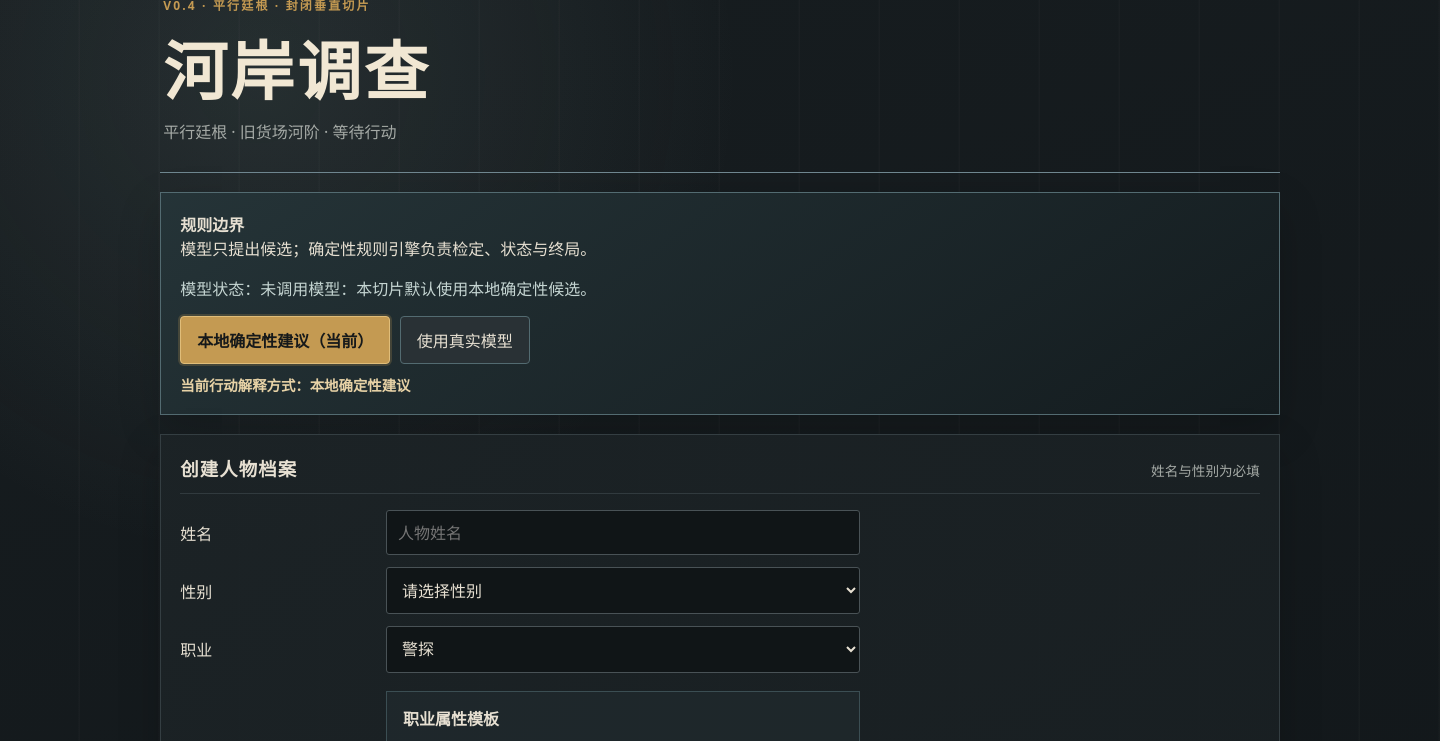
Scenario: V0.4 平行廷根可见切片 › 在具体调查步骤中选择占卜能力，预览效果并在结算后扣除灵性
Type "占卜链测试员" into the field labelled "姓名" at [623, 533], box [386,510,860,555]
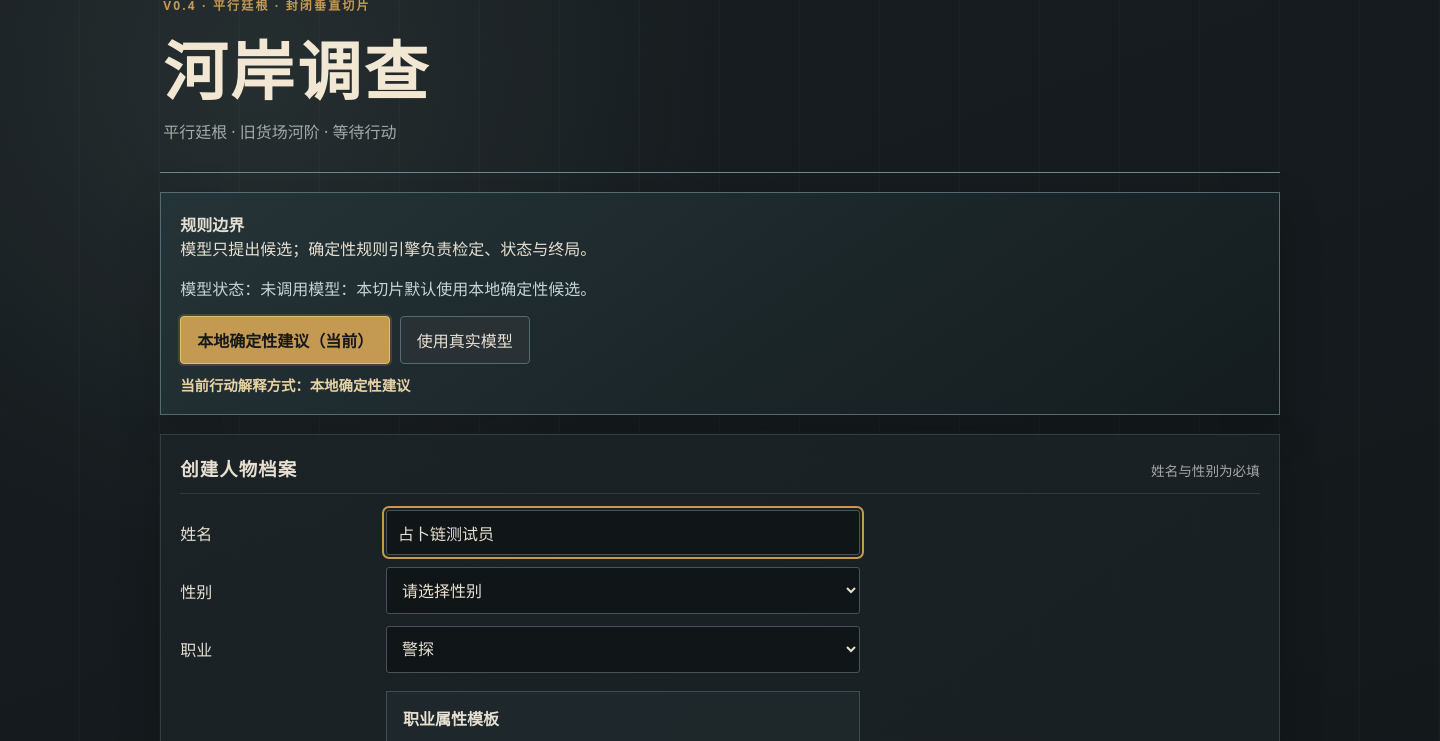
Select "女性" in the dropdown labelled "性别" at [623, 591], box [386,567,860,614]
(page scrolled)
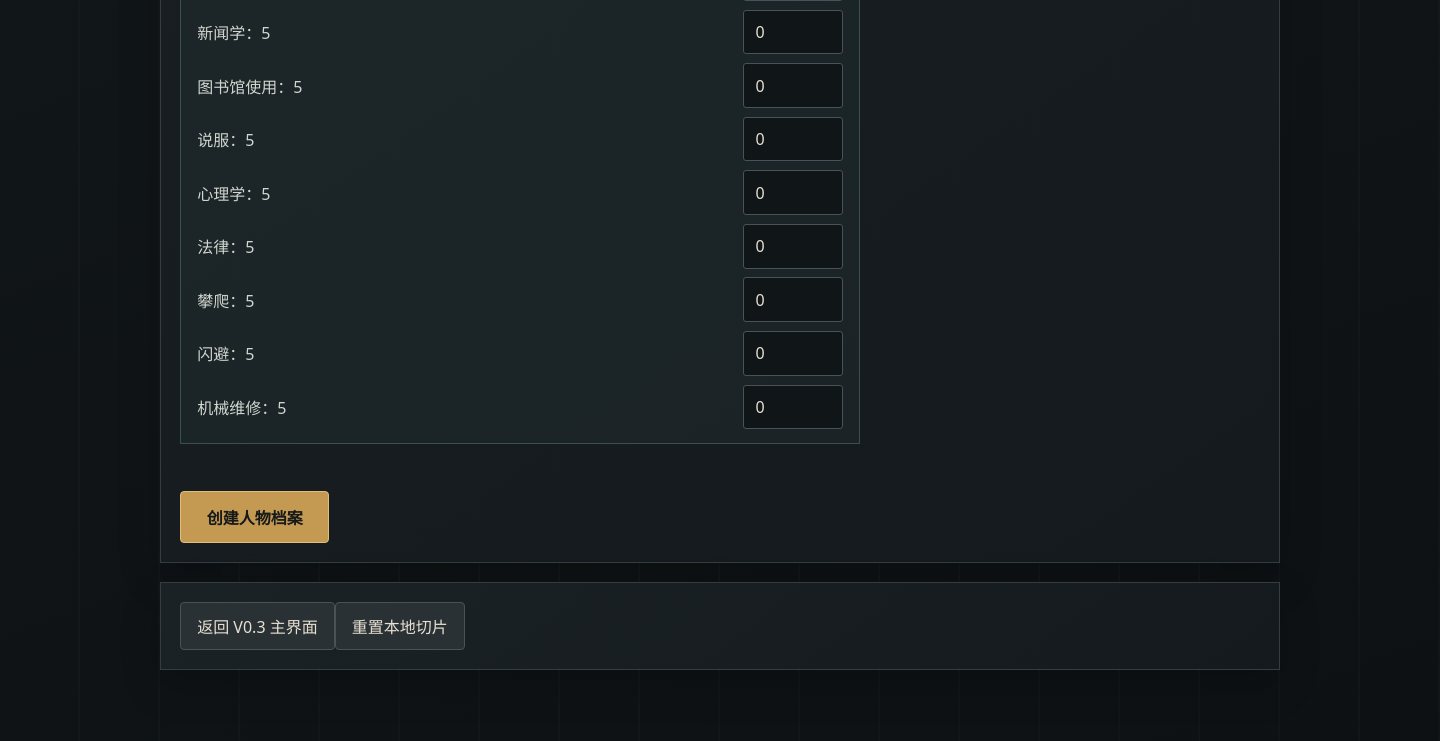
Click the button "创建人物档案" at [255, 517], box [180,491,329,543]
(page scrolled)
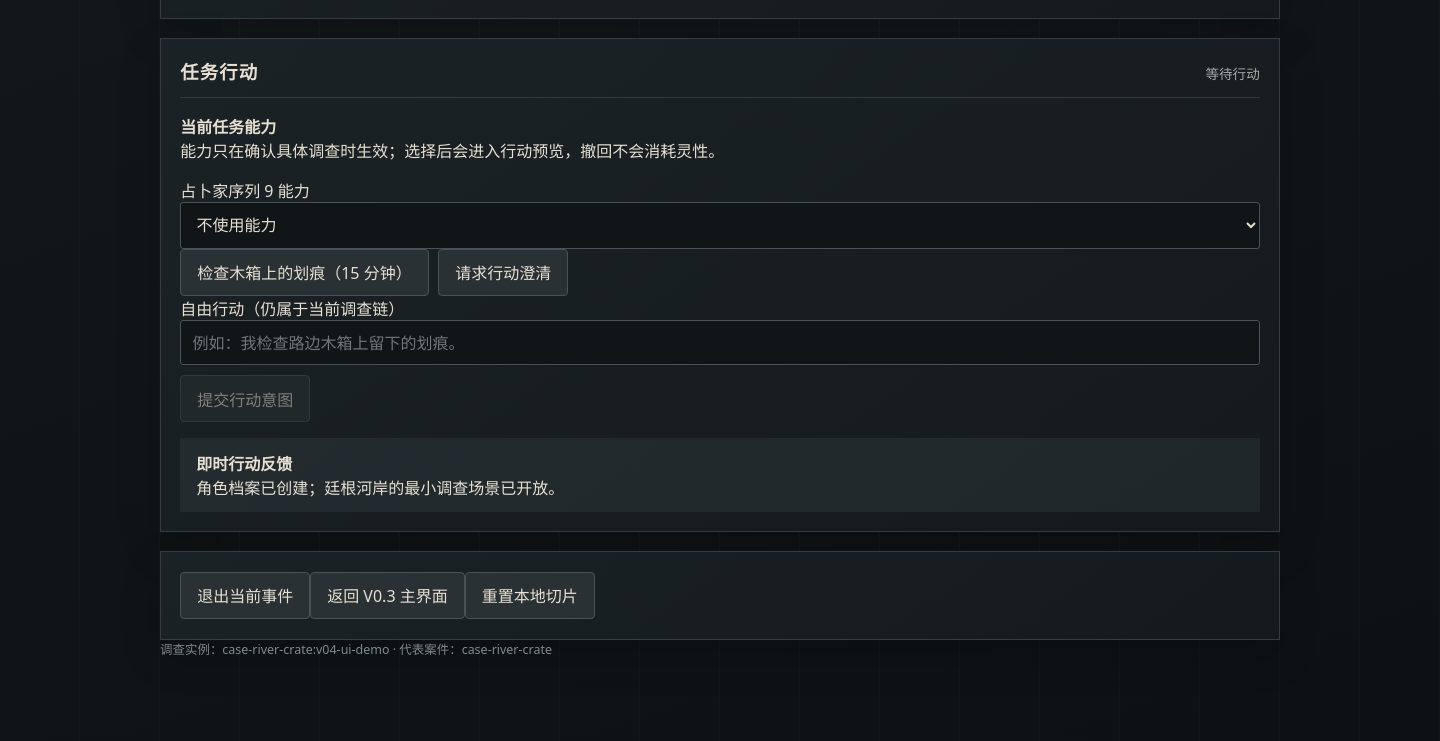
Select "预兆窥视（消耗 1 点灵性，影响检定与信息层级）" in the dropdown labelled "占卜家序列 9 能力" at [720, 225], box [180,202,1260,249]
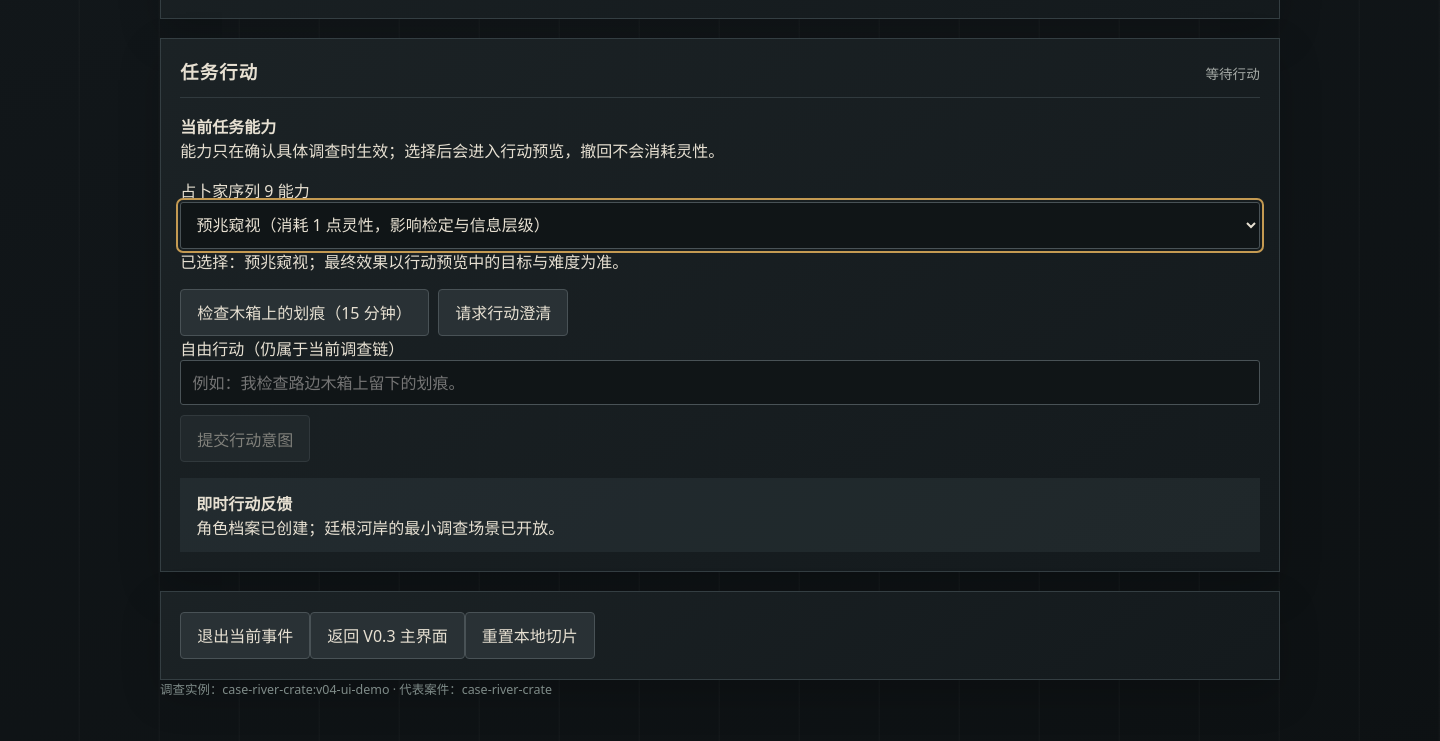
Click the button "检查木箱上的划痕（15 分钟）" at [304, 312], box [180,288,429,336]
(page scrolled)
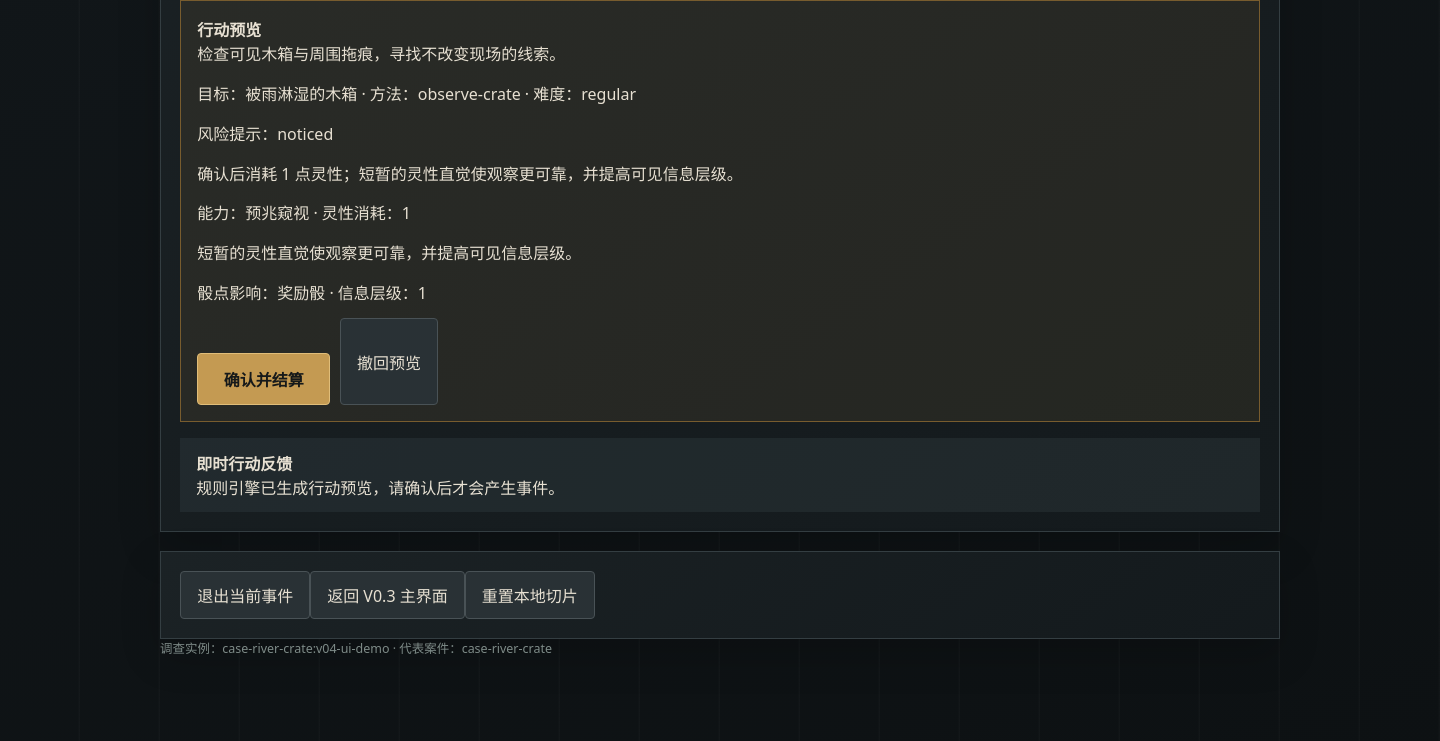
Expected: the text "能力：预兆窥视 · 灵性消耗：1" is shown, [197,202,411,224]
Expected: the text "骰点影响：奖励骰 · 信息层级：1" is shown, [197,282,427,304]
Expected: the text "确认后消耗 1 点灵性；短暂的灵性直觉使观察更可靠，并提高可见信息层级。" is shown, [197,163,743,185]
Click the button "确认并结算" at [264, 379], box [197,353,330,405]
(page scrolled)
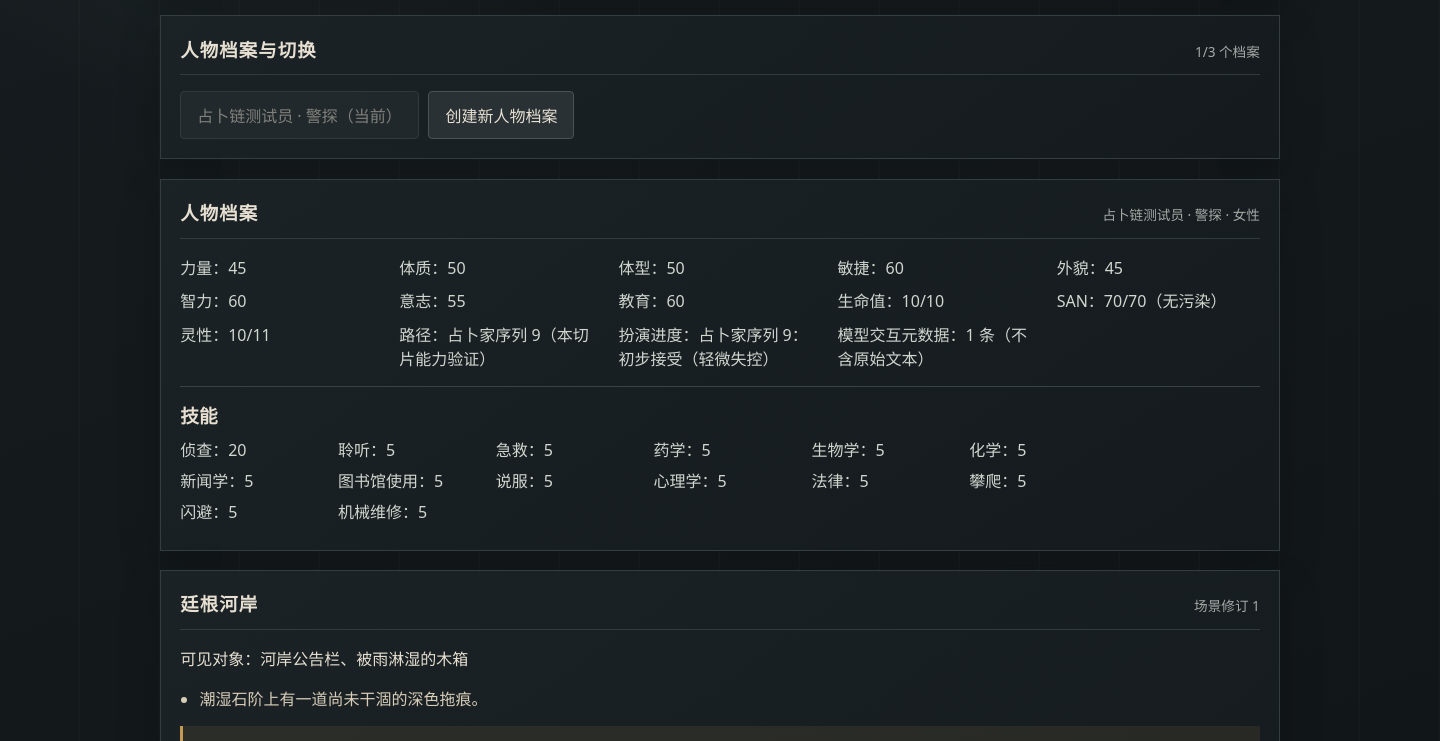
Expected: the text "灵性：10/11" is shown, [180,324,271,346]
